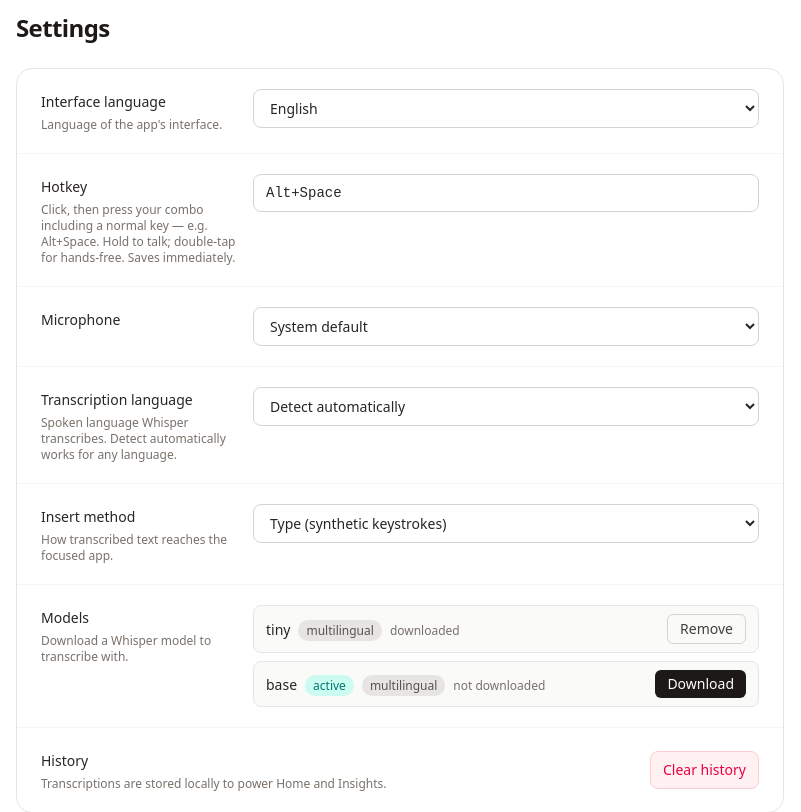
Test: Settings › clicking hotkey button enters capturing mode
This screenshot has width=801, height=812.
Click the button "Alt+Space": (304, 193) [253,174,759,212]
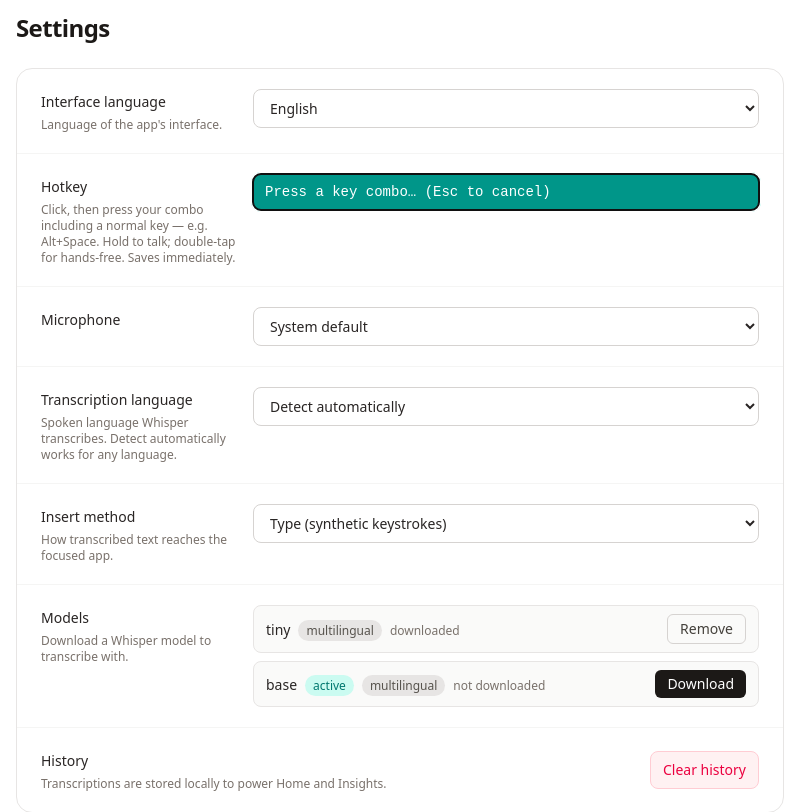
Expected: the button "Press a key combo… (Esc to cancel)" is shown, [253,174,759,210]
